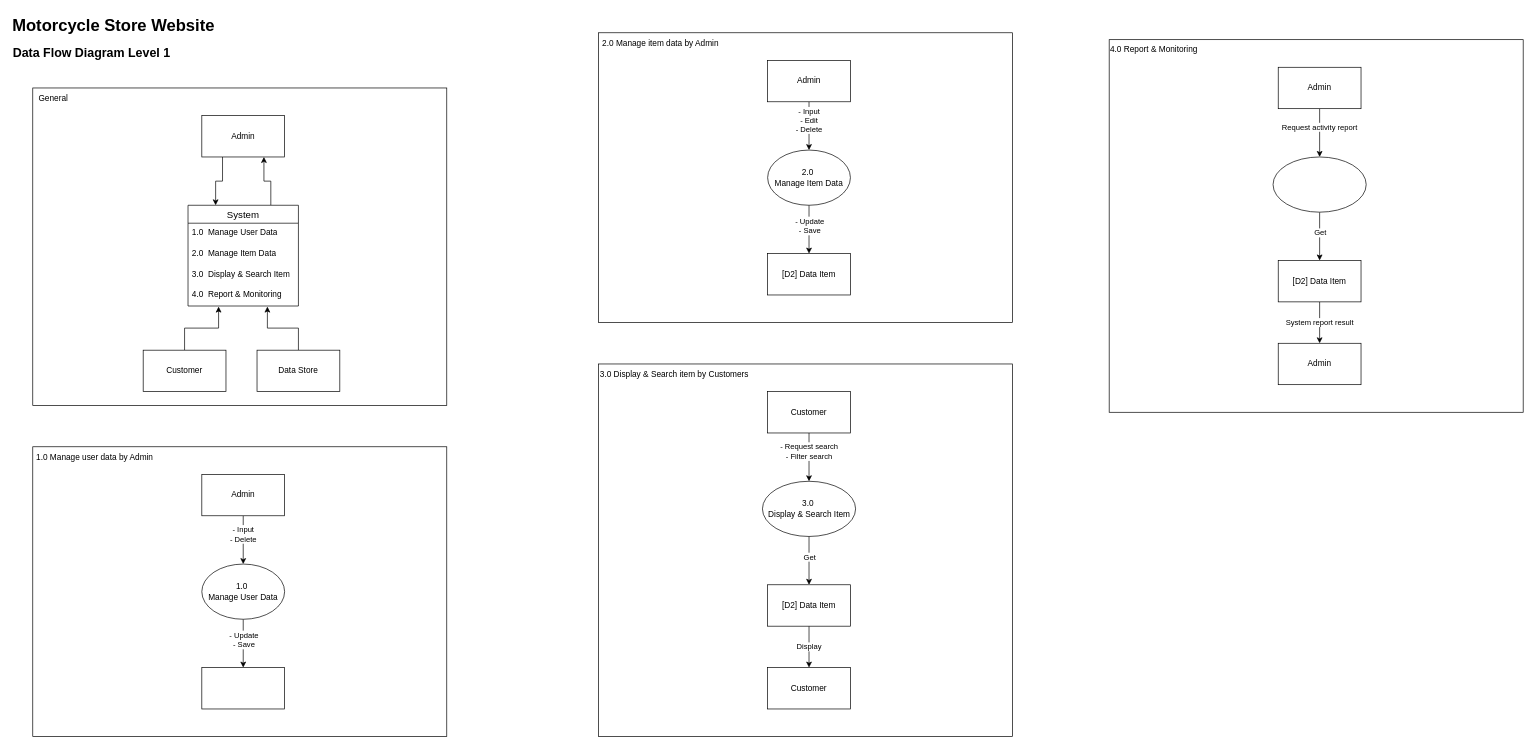
This 1535x749 diagram has some shape labels left out. The shapes that lost their labels are listed below. From the top down, each one's centre as x and y in pixels, then its label:
At (1319,184): "5.0 Report & Monitoring".
At (243,688): "[D1] Data User".
